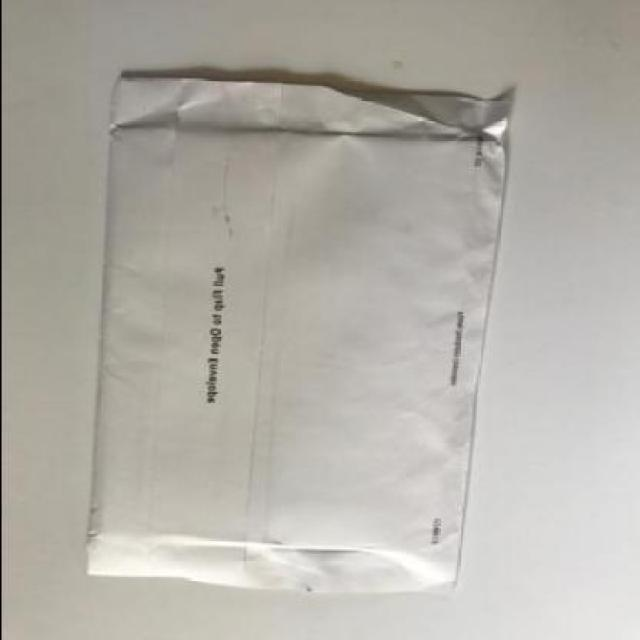PAPER: (88, 71, 518, 600)
